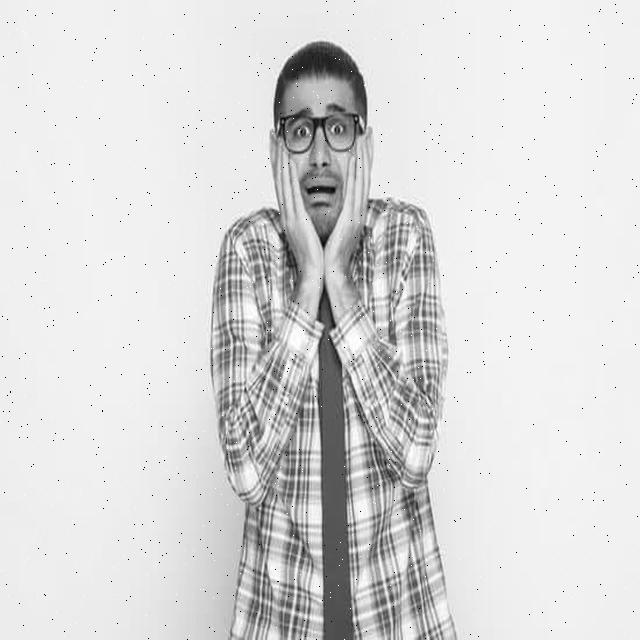Fear: (280, 76, 358, 238)
